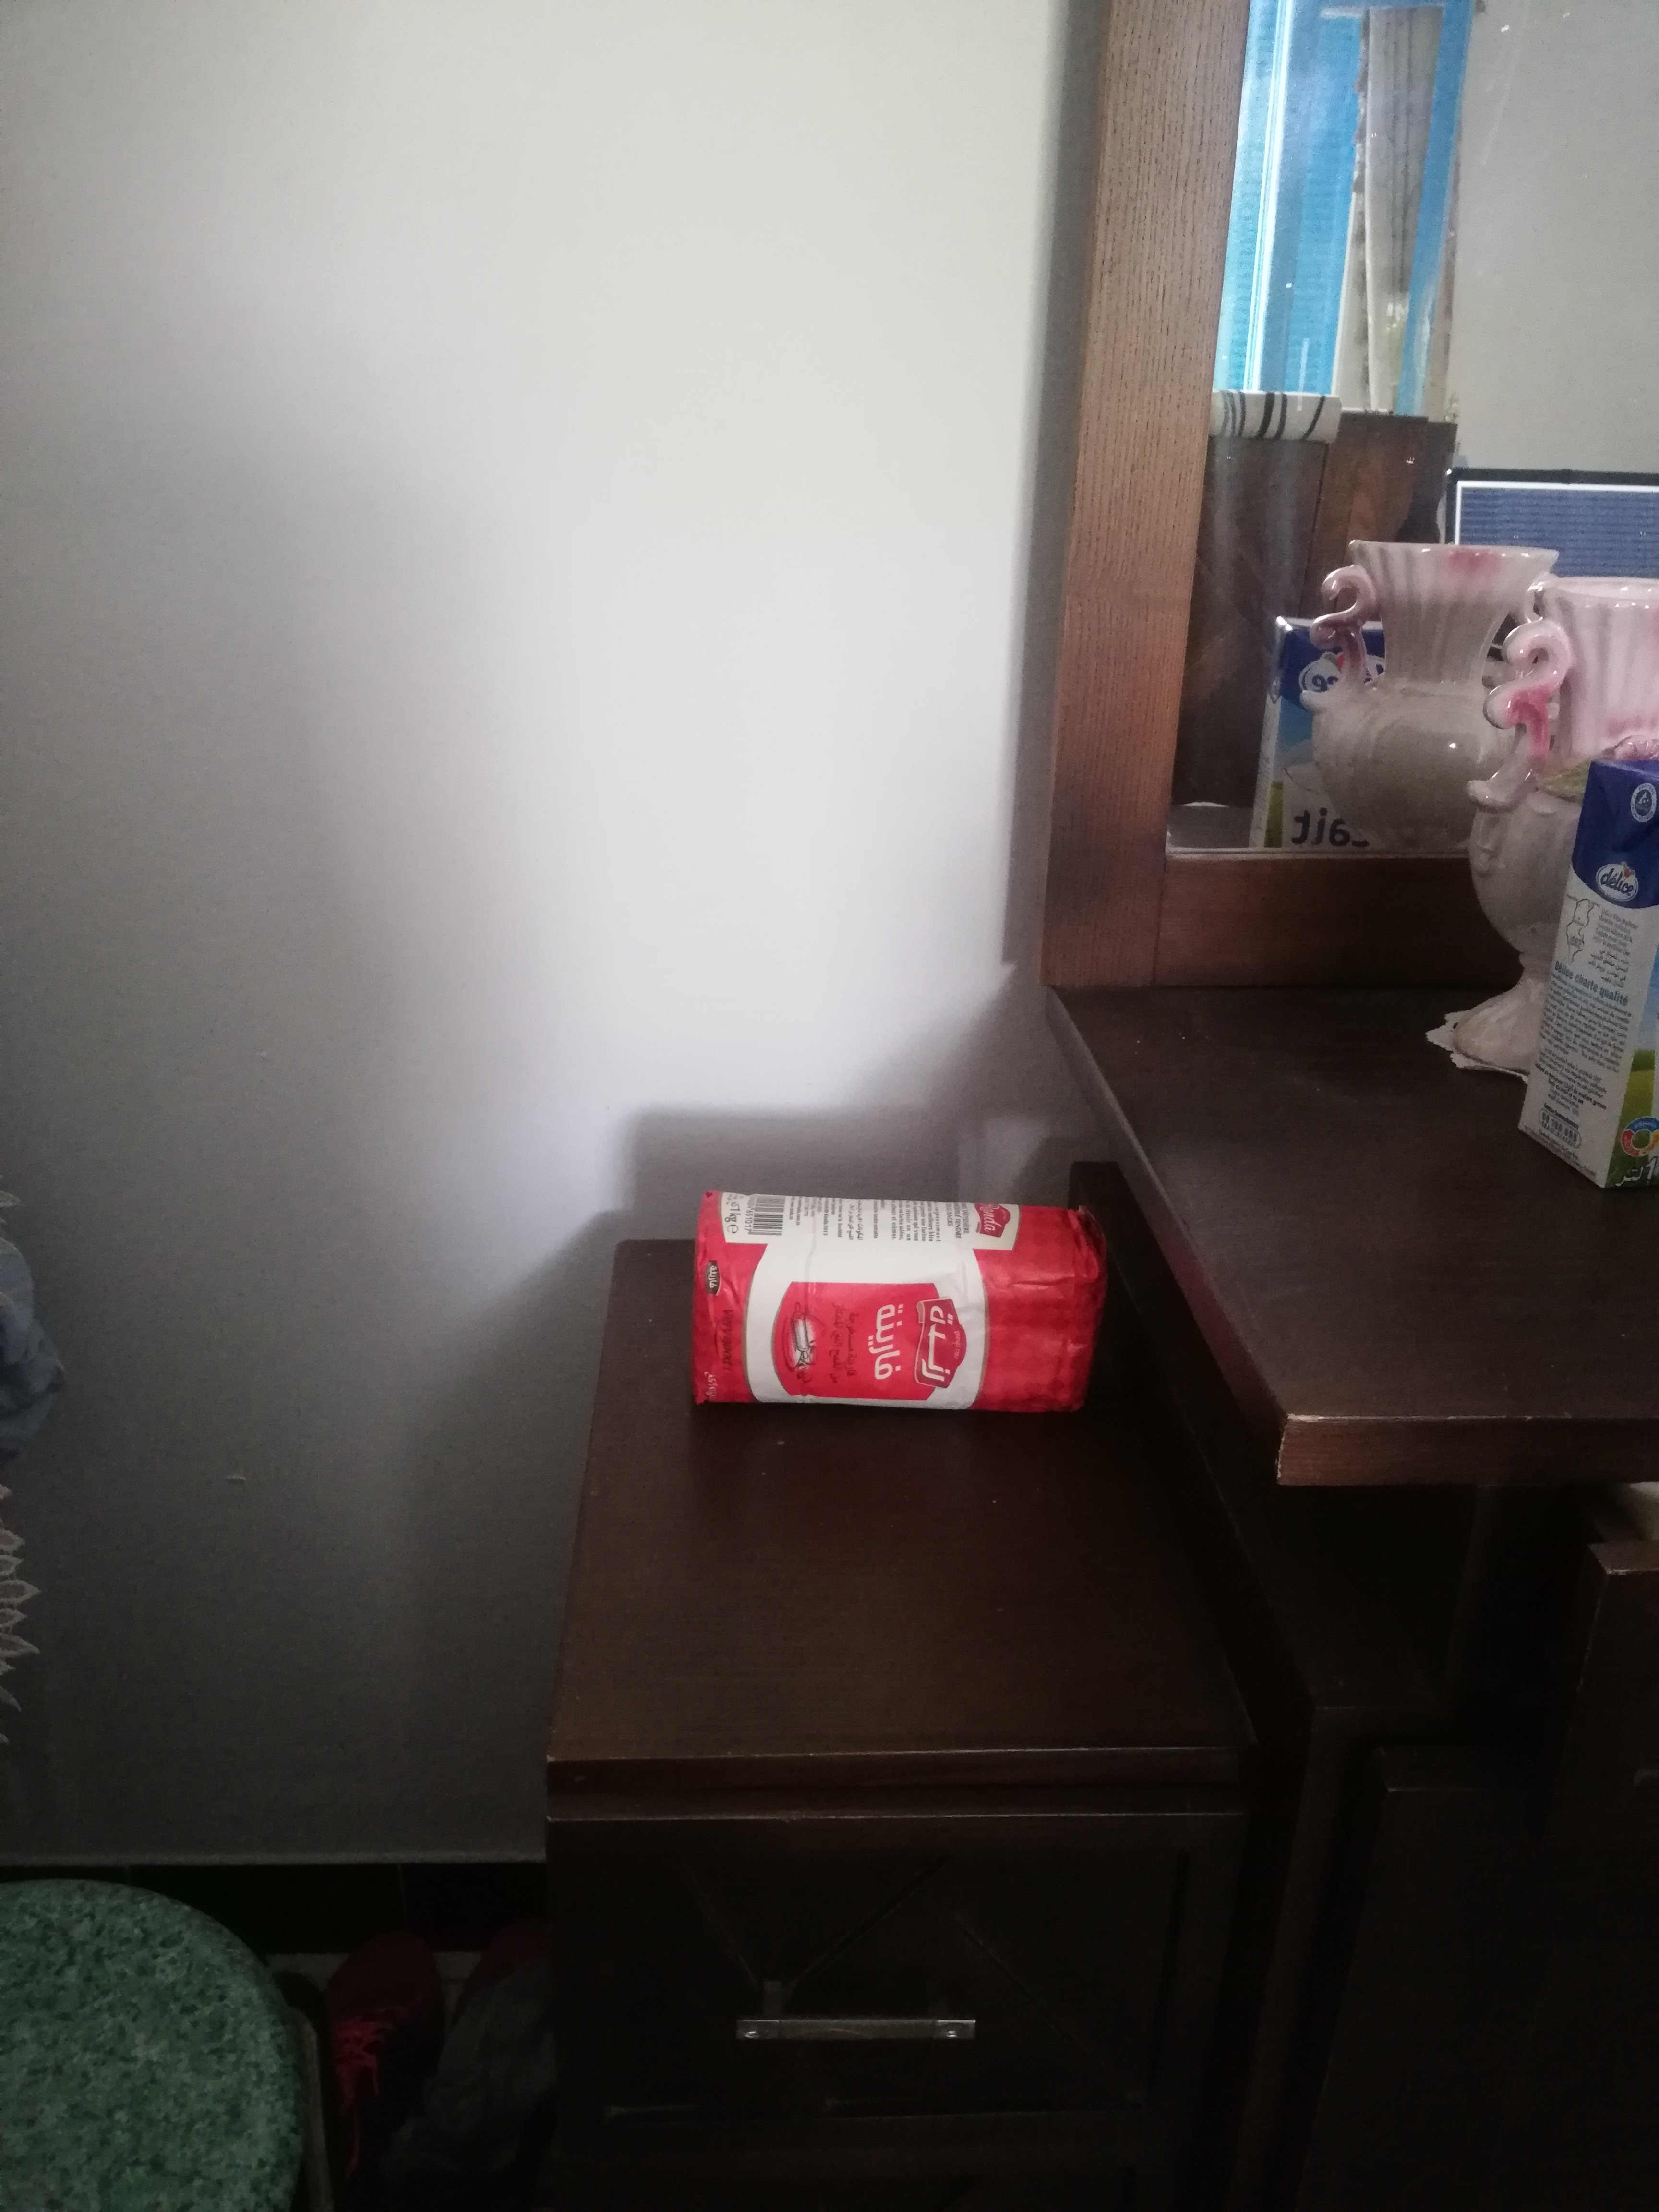Farine Randa: (695, 1191, 1103, 1414)
